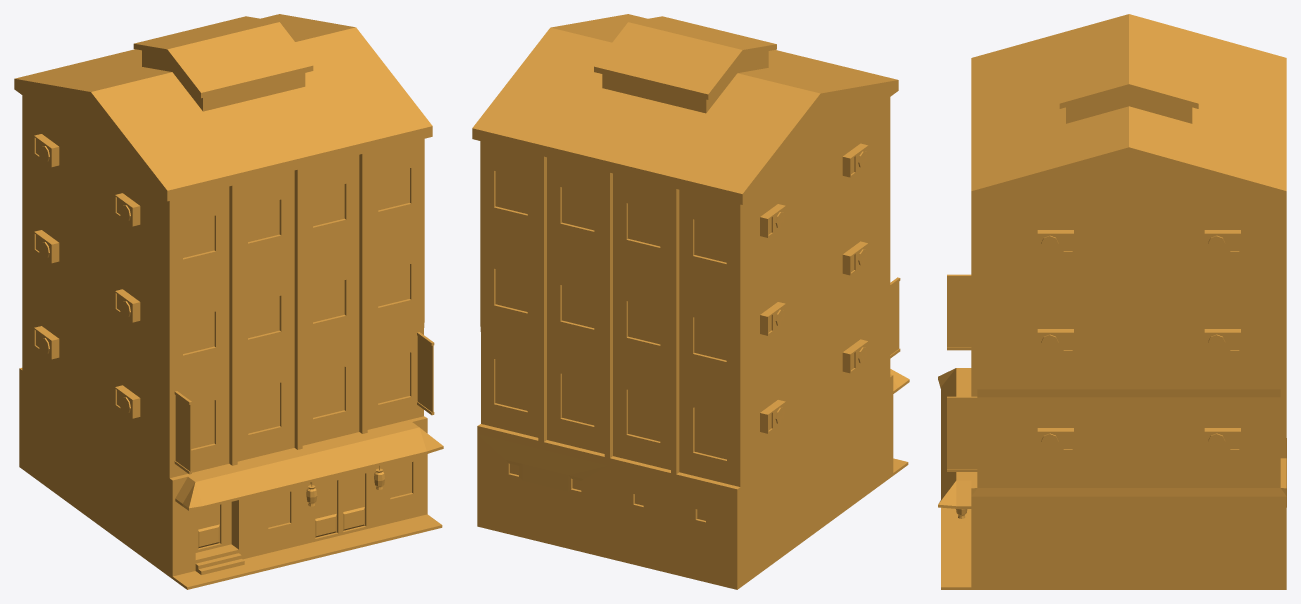
The model's file is building-apartment-china.glb.
3 views of the same model, side by side, from view 1: azimuth 30°, elevation 25°; view 2: azimuth 150°, elevation 25°; view 3: azimuth 270°, elevation 25° (orthographic). The views are drawn at different scales.
Parts seen in each view (by area): view 1: building-apartment-china; view 2: building-apartment-china; view 3: building-apartment-china.
Boxes of the visible parts, x1,y1,x2,y2 form: building-apartment-china: (14, 14, 443, 589); building-apartment-china: (472, 14, 909, 589); building-apartment-china: (938, 14, 1286, 589).
Size of the model in its own units: 10.7 by 17.1 by 11.5.
